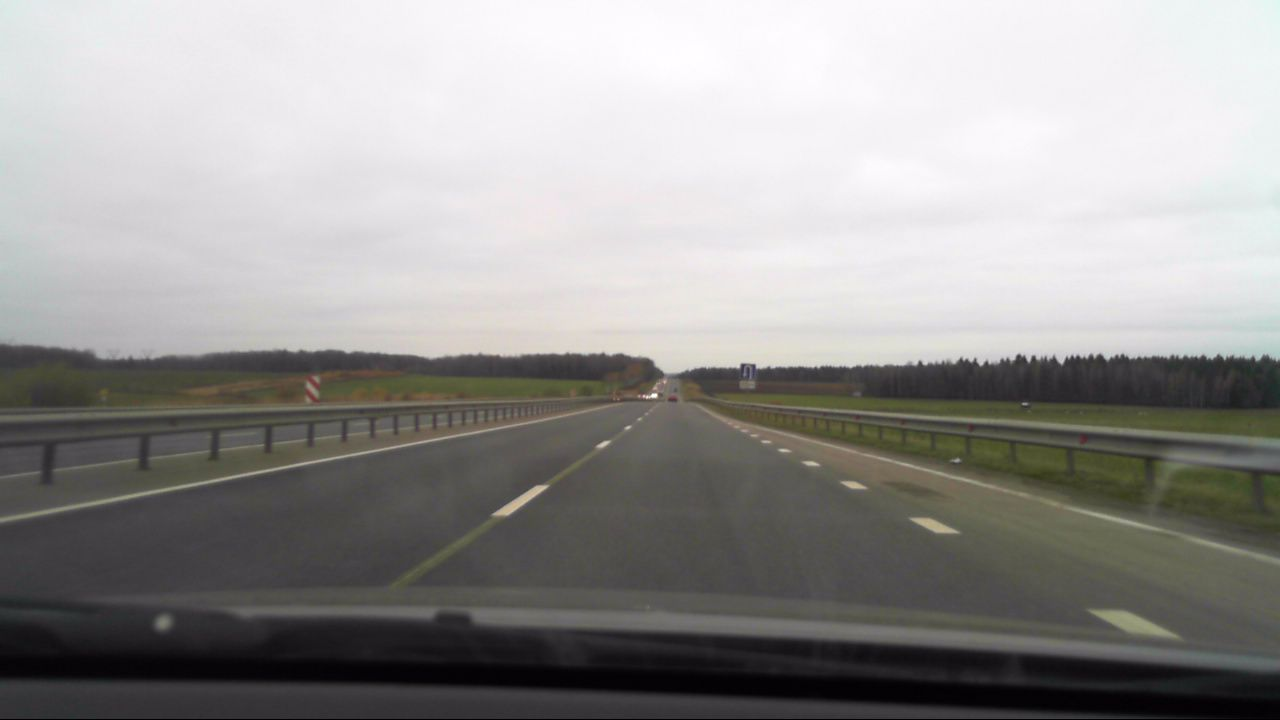U-turn: (740, 364, 755, 380)
